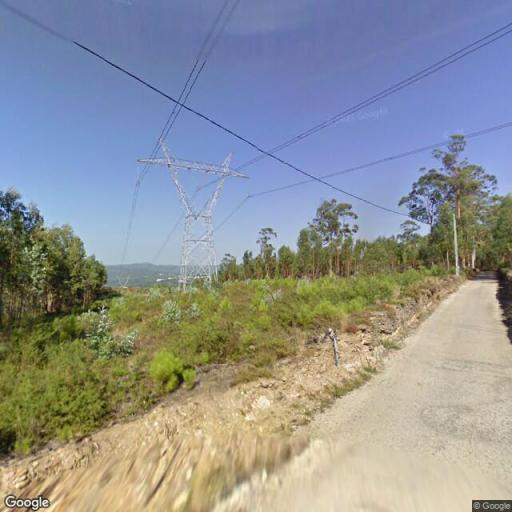wt_6: (134, 138, 250, 287)
